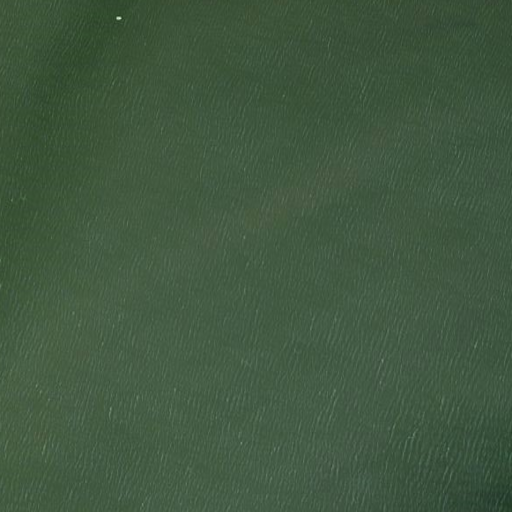ship: (114, 14, 123, 22)
